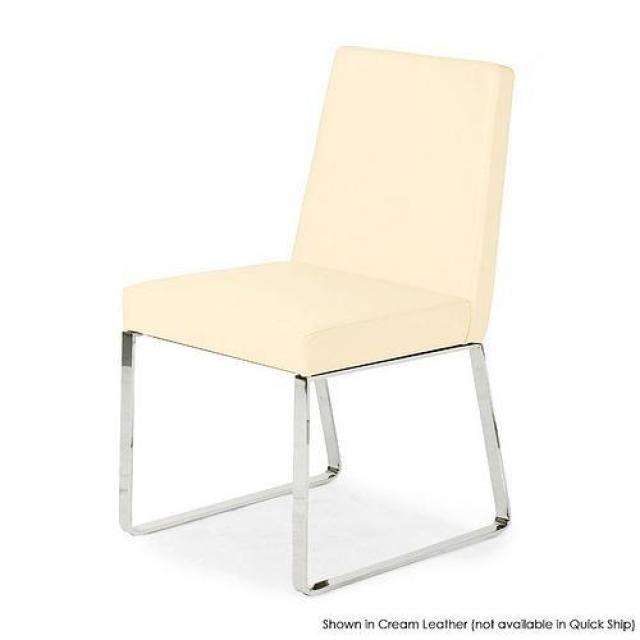chair: (118, 45, 516, 595)
